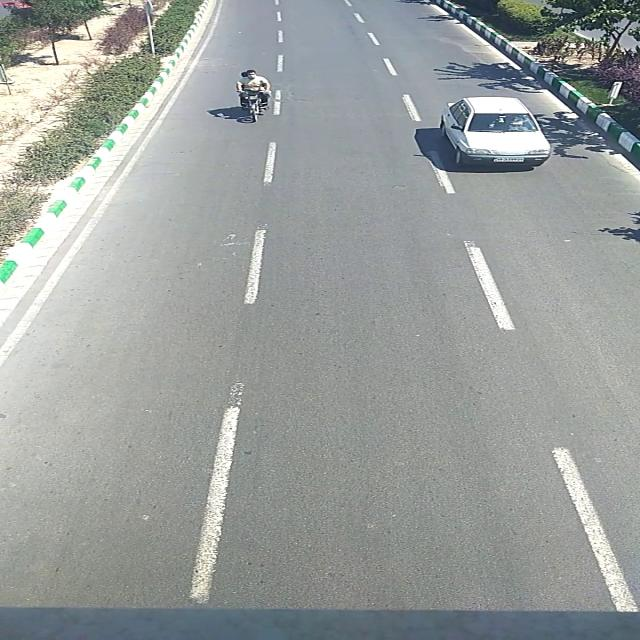car: (438, 97, 552, 165)
motor: (233, 70, 274, 124)
